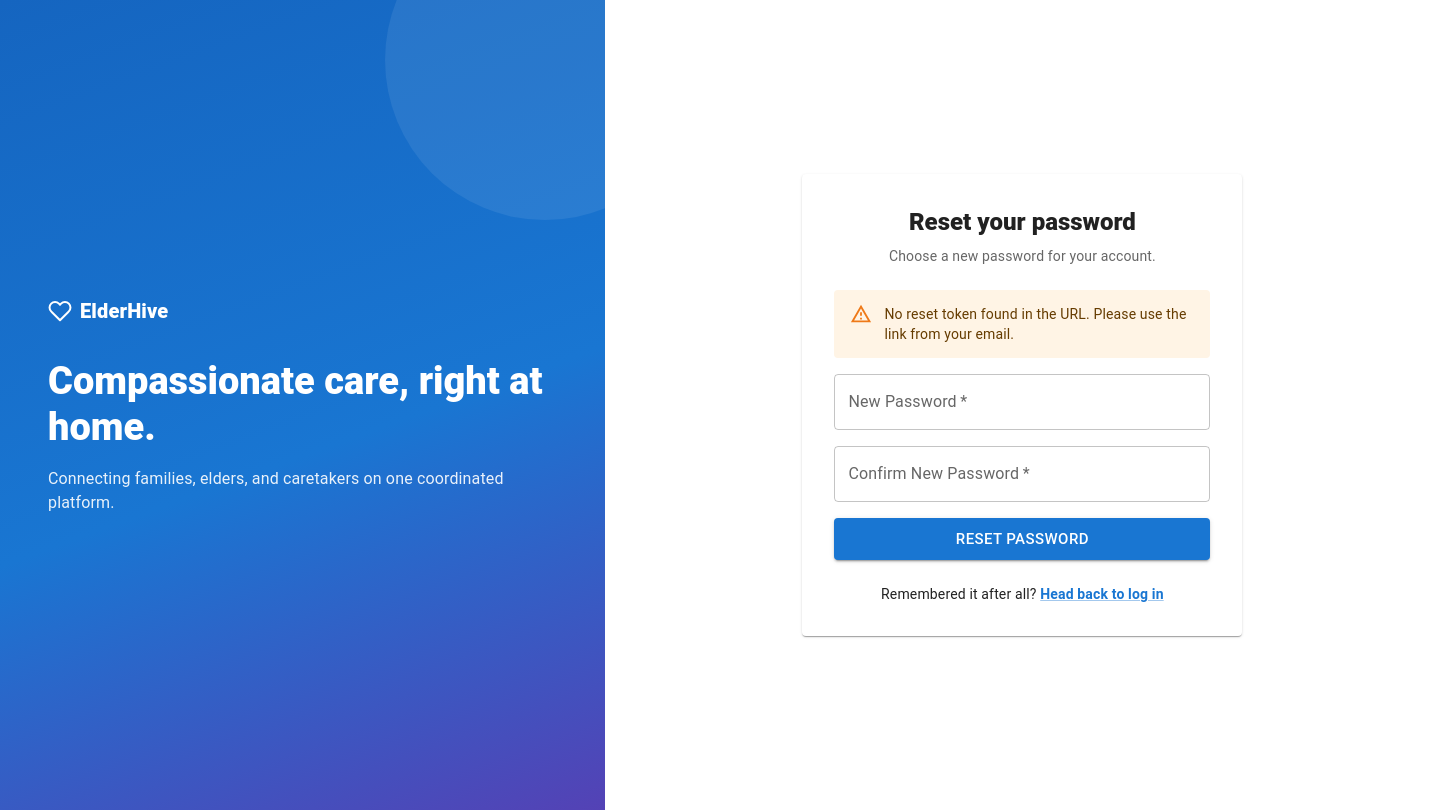
Test case: ResetPassword.page › warns and blocks submission when there's no token in the URL
The image size is (1440, 810).
Check: the text "No reset token found in the URL" is shown, box x1=884 y1=306 x2=1186 y2=342
Type "strongpass123" into the password field labelled "New Password *".
click(1022, 402); type("strongpass123")  # box x1=834 y1=374 x2=1210 y2=430
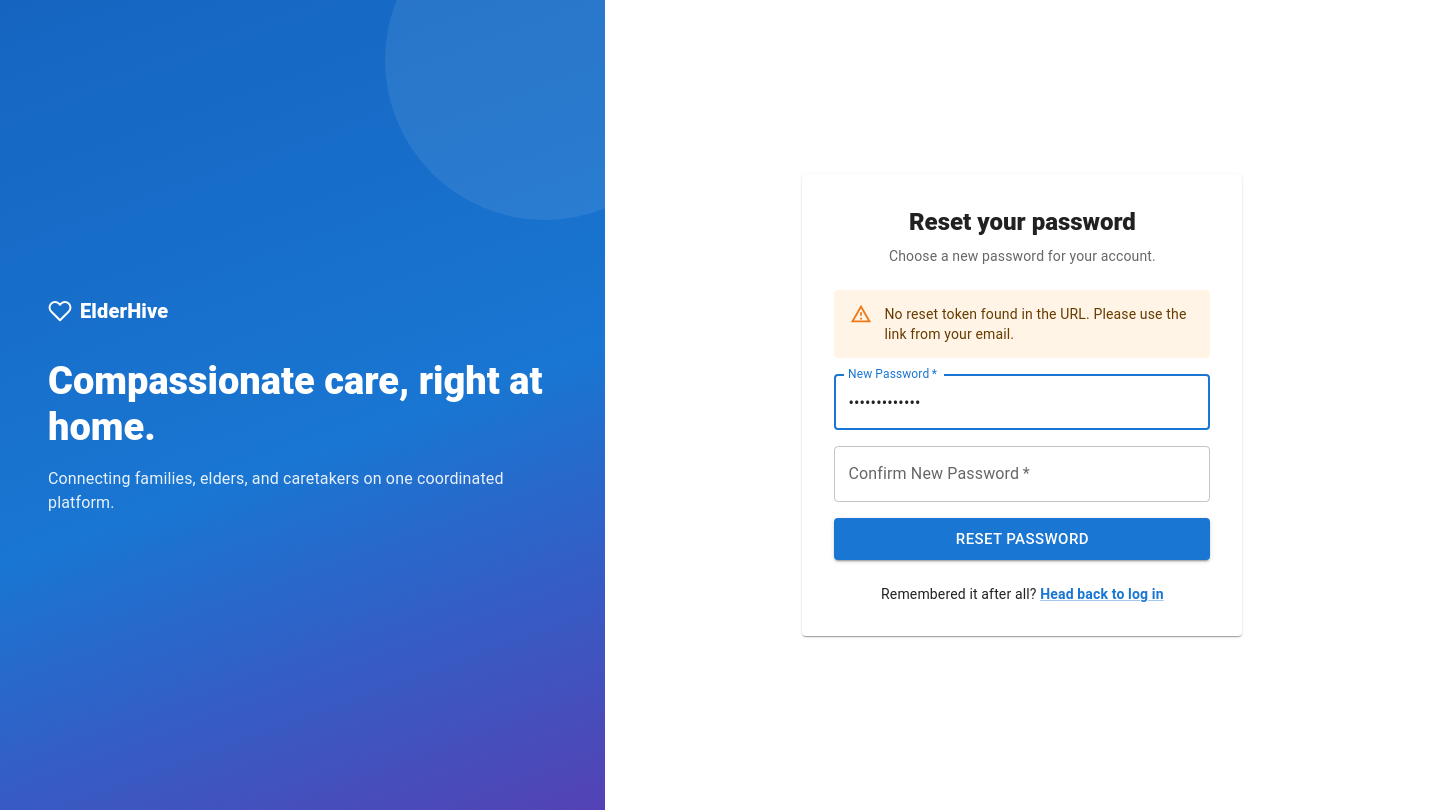
Type "strongpass123" into the password field labelled "Confirm New Password *".
click(1022, 474); type("strongpass123")  # box x1=834 y1=446 x2=1210 y2=502
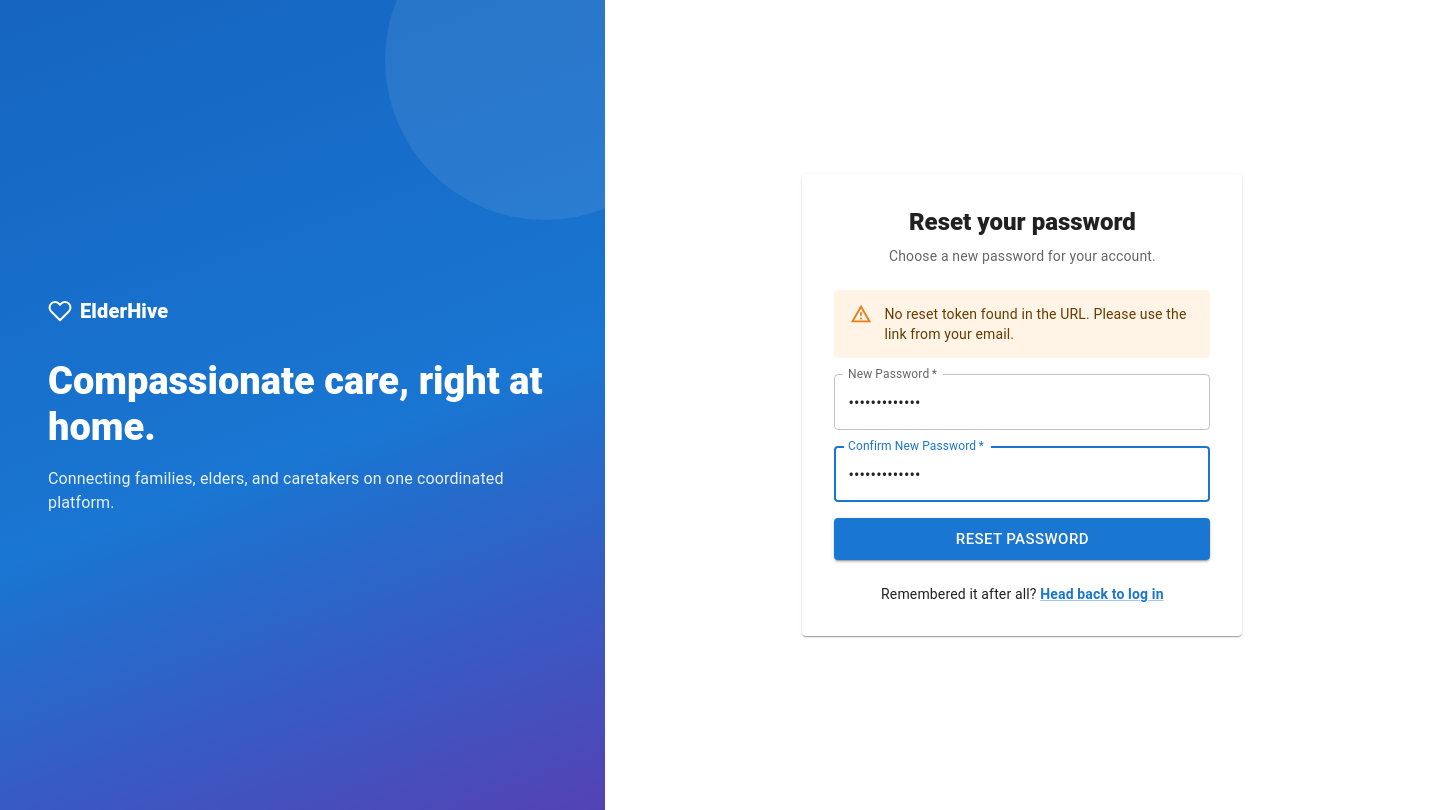
Click the button "Reset Password".
click(1022, 539)  # box x1=834 y1=518 x2=1210 y2=560
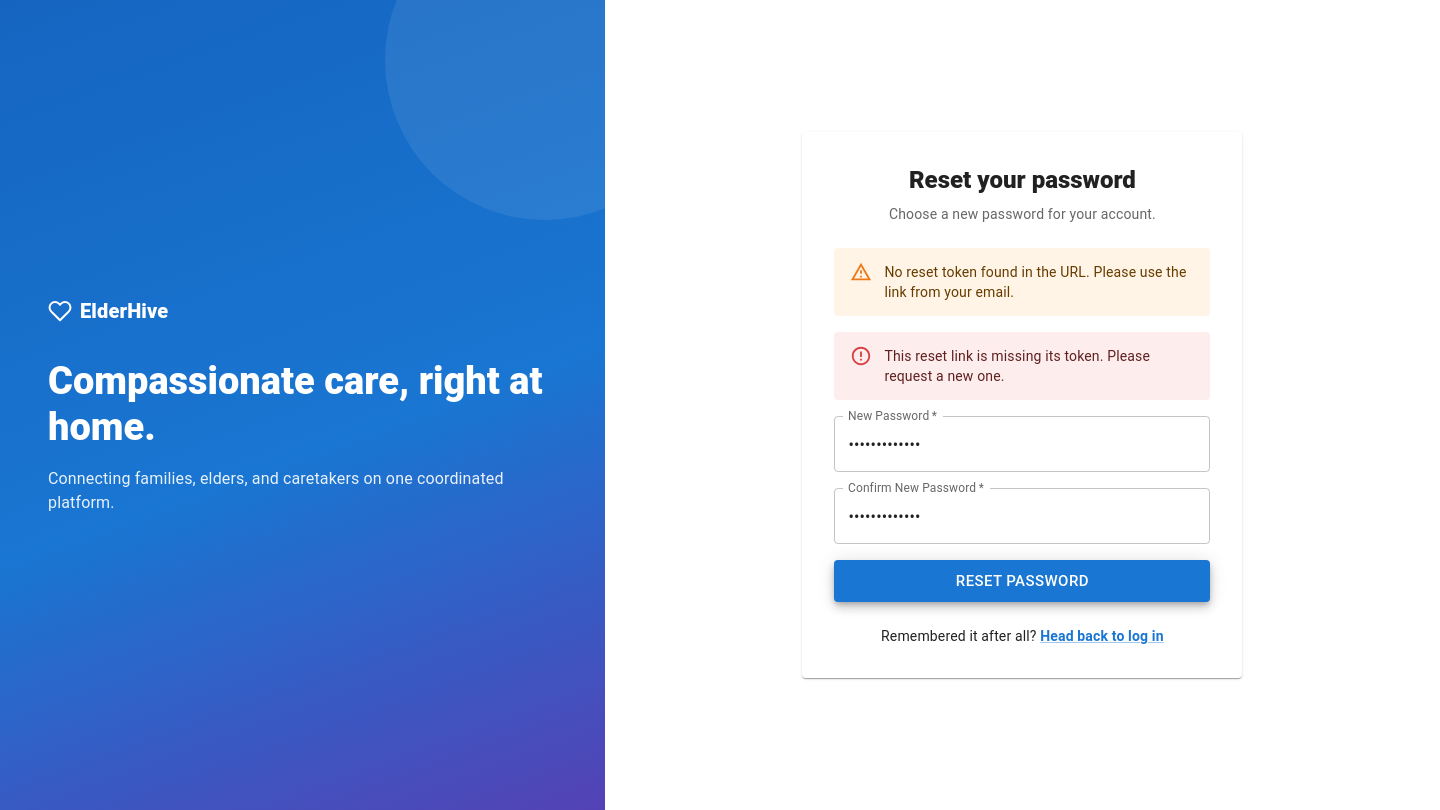
Check: the text "This reset link is missing its token" is shown, box x1=884 y1=348 x2=1150 y2=384
